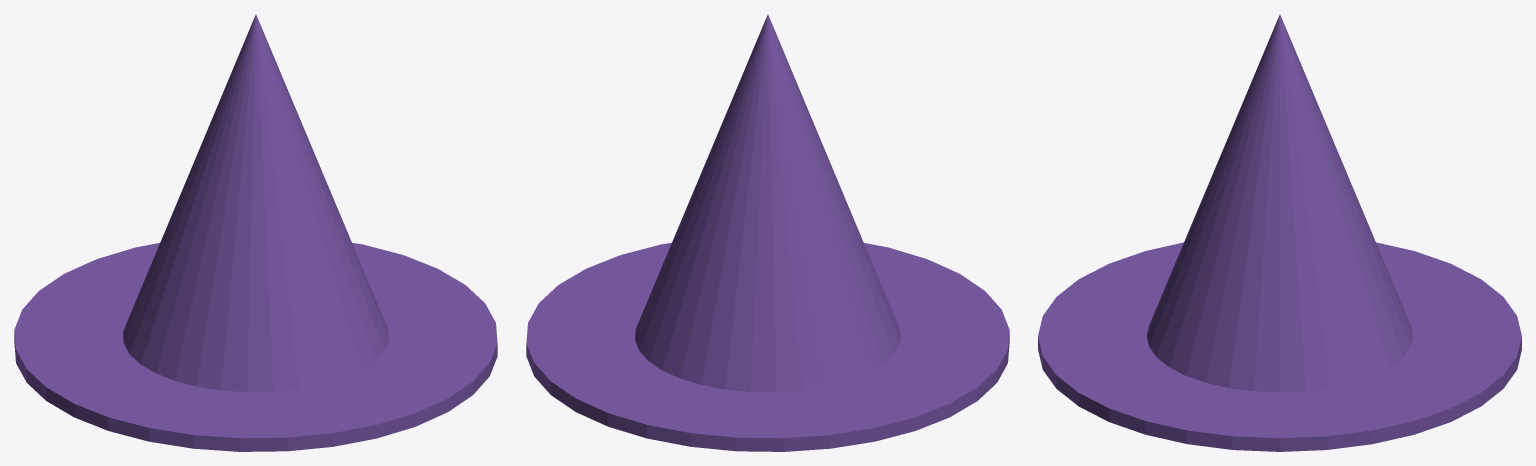
Rendered from hat_wizard_stylized.fbx.
3 views of the same model, side by side, from view 1: azimuth 30°, elevation 25°; view 2: azimuth 150°, elevation 25°; view 3: azimuth 270°, elevation 25° (orthographic).
Visible parts, largest first — view 1: Cylinder; view 2: Cylinder; view 3: Cylinder.
Part boxes in pixels (x1,y1,x2,y2): Cylinder: [14, 14, 497, 451]; Cylinder: [526, 14, 1009, 451]; Cylinder: [1038, 14, 1521, 451].
Bounding box in the file's own units: 160 × 123 × 160.
